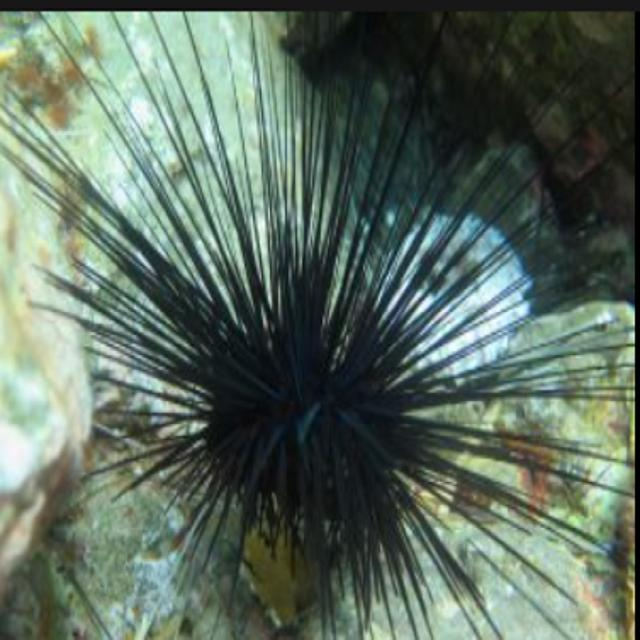Urchin: (14, 14, 624, 612)
